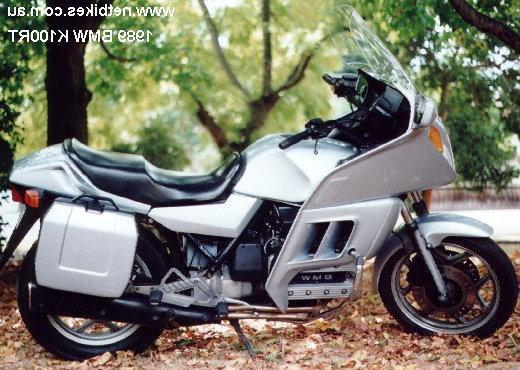motorcycle: (1, 19, 520, 369)
